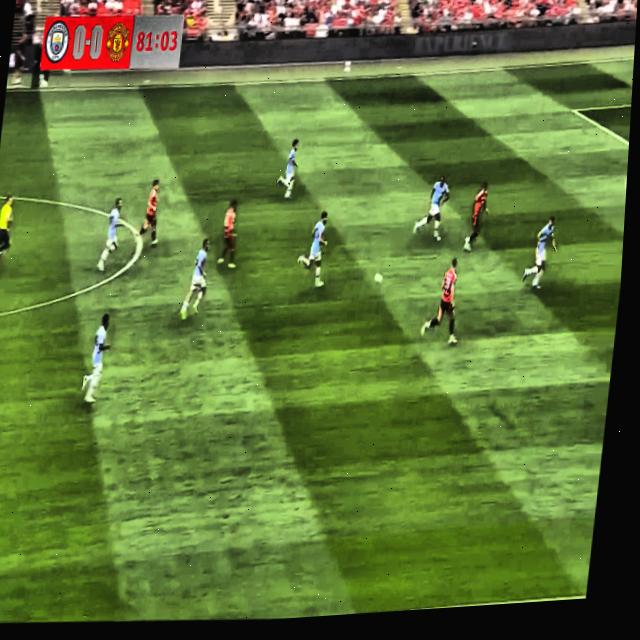ball: (371, 265, 387, 290)
players: (290, 201, 341, 303), (419, 249, 469, 346), (408, 169, 460, 253), (78, 314, 118, 409), (522, 207, 565, 294), (176, 232, 216, 321), (94, 188, 128, 280), (461, 176, 496, 257), (214, 196, 245, 281), (138, 172, 169, 249), (274, 134, 304, 208)
refree: (0, 184, 23, 282)
